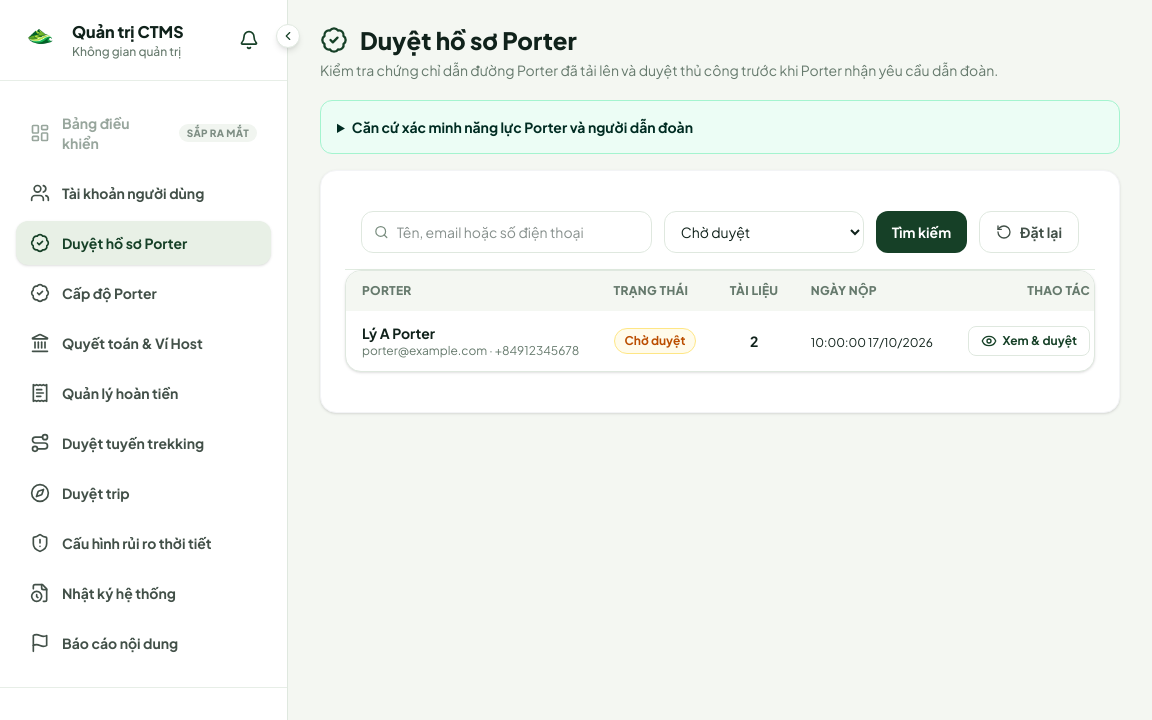
Test: AdminPorterVerificationsPage › lists pending reviews by default and shows the documents
The width and height of the screenshot is (1152, 720).
Expected: the text "Chờ duyệt" is shown, [614,328,696,354]
Click the button "Xem & duyệt": coordinates (1029, 341) [968,326,1090,356]
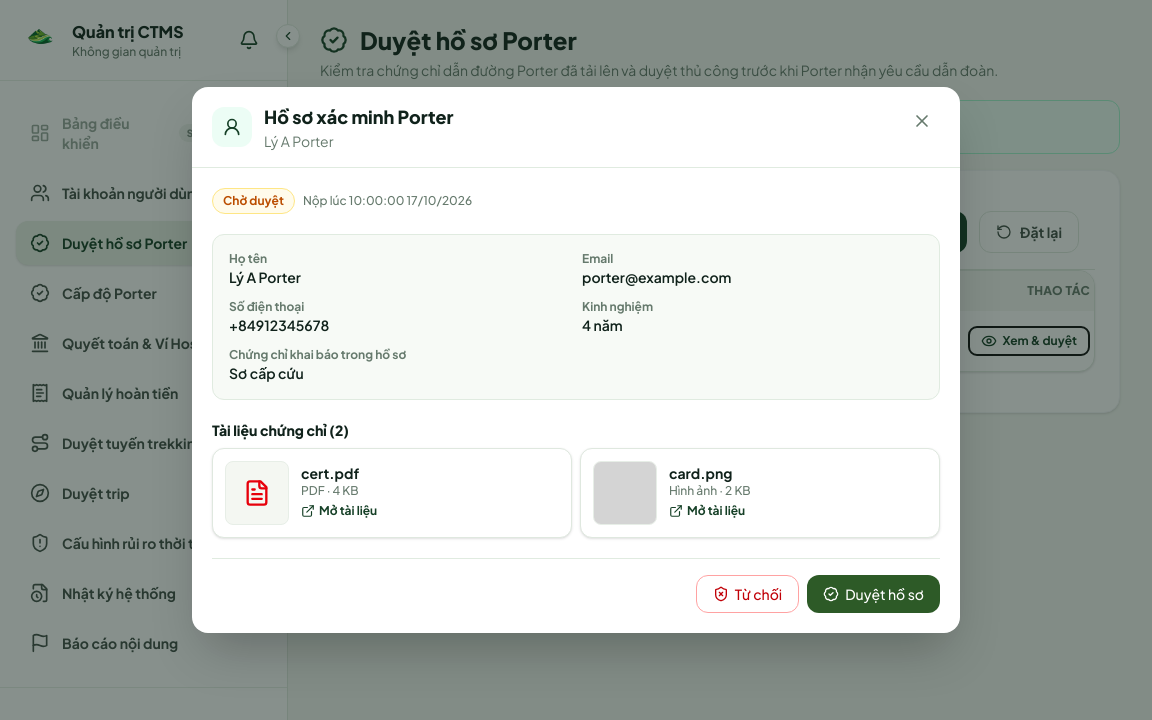
Result: the text "cert.pdf" is shown at [301,464,359,482]
Result: the text "Sơ cấp cứu" is shown at [229,364,304,382]
